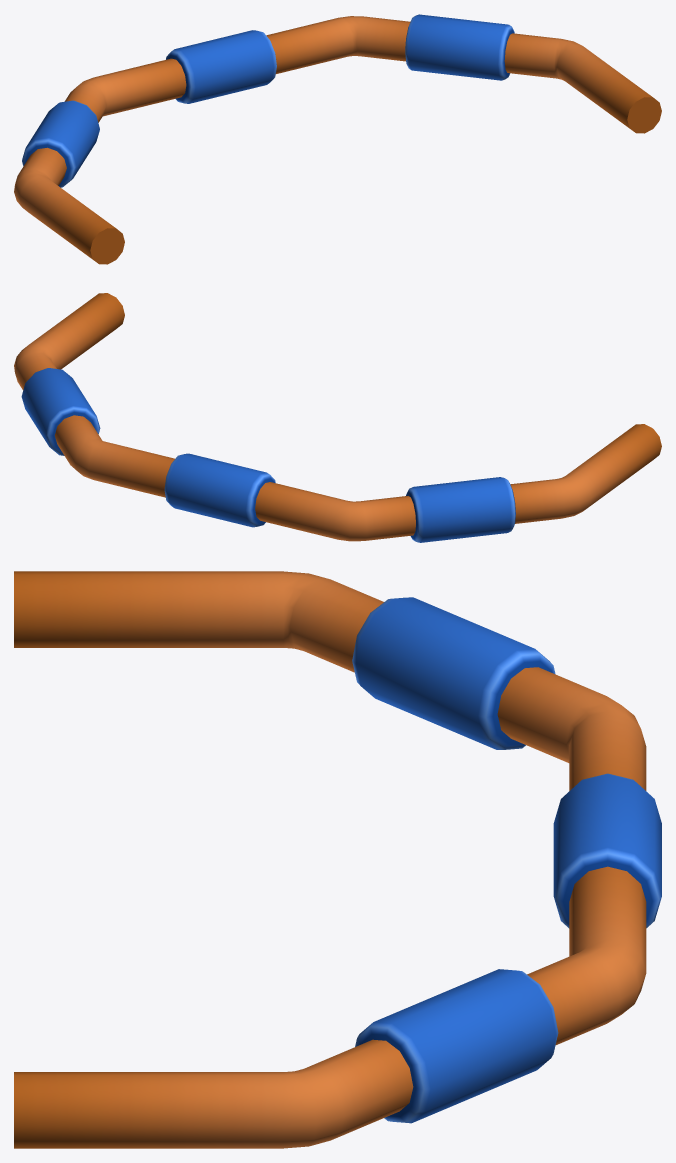
The model's file is pipearc_001.fbx.
3 renders of one model, top to bottom at view 1: azimuth 30°, elevation 25°; view 2: azimuth 150°, elevation 25°; view 3: azimuth 270°, elevation 25°, orthographic. The views are drawn at different scales.
Parts seen in each view (by area): view 1: pipearc_001; view 2: pipearc_001; view 3: pipearc_001.
Boxes of the visible parts, <box> form: pipearc_001: <box>14,14,661,264</box>; pipearc_001: <box>14,293,661,542</box>; pipearc_001: <box>14,571,661,1148</box>.
Bounding box in the file's own units: 2576 × 1324 × 221.
